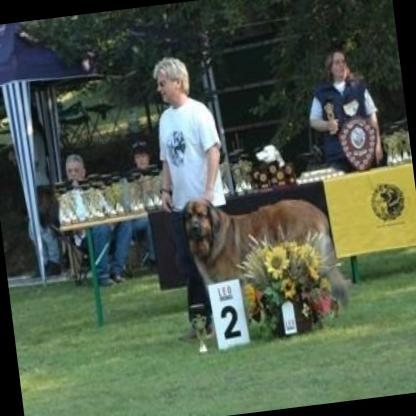Leonberg: (182, 181, 349, 326)
